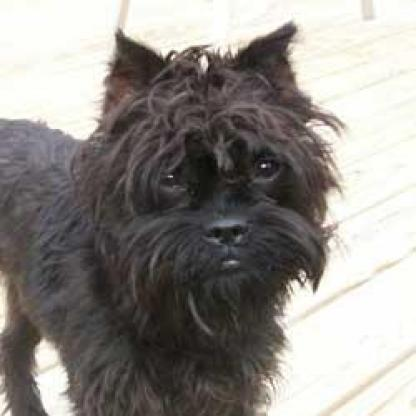affenpinscher: (0, 13, 348, 413)
